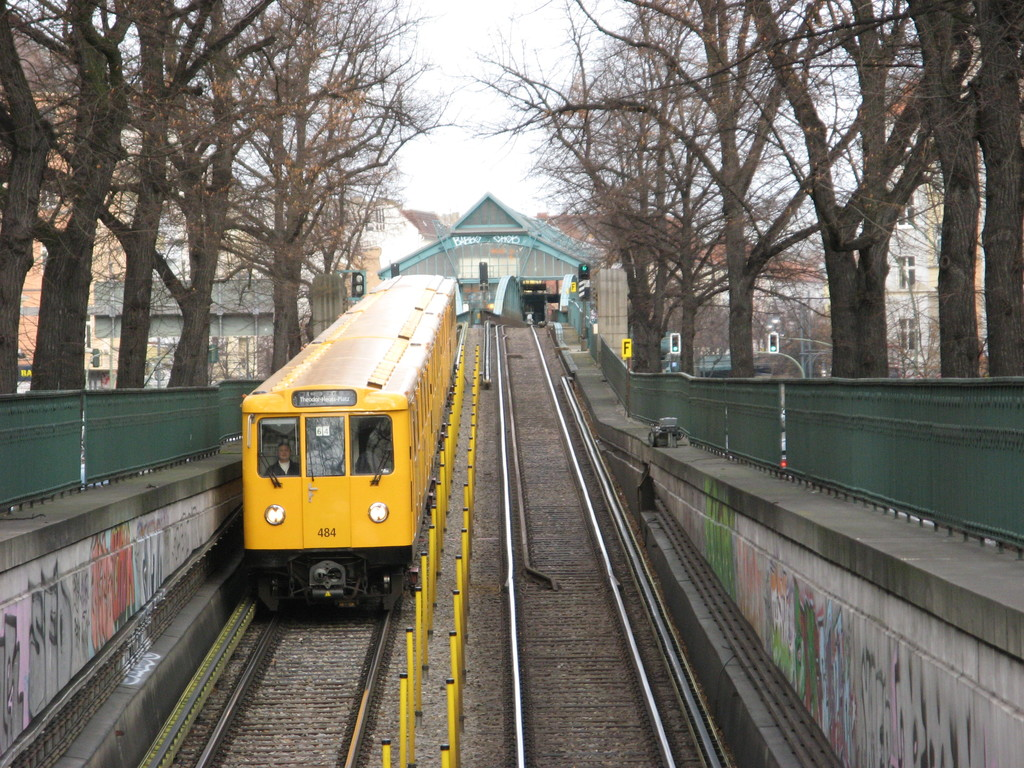train: (236, 268, 460, 618)
